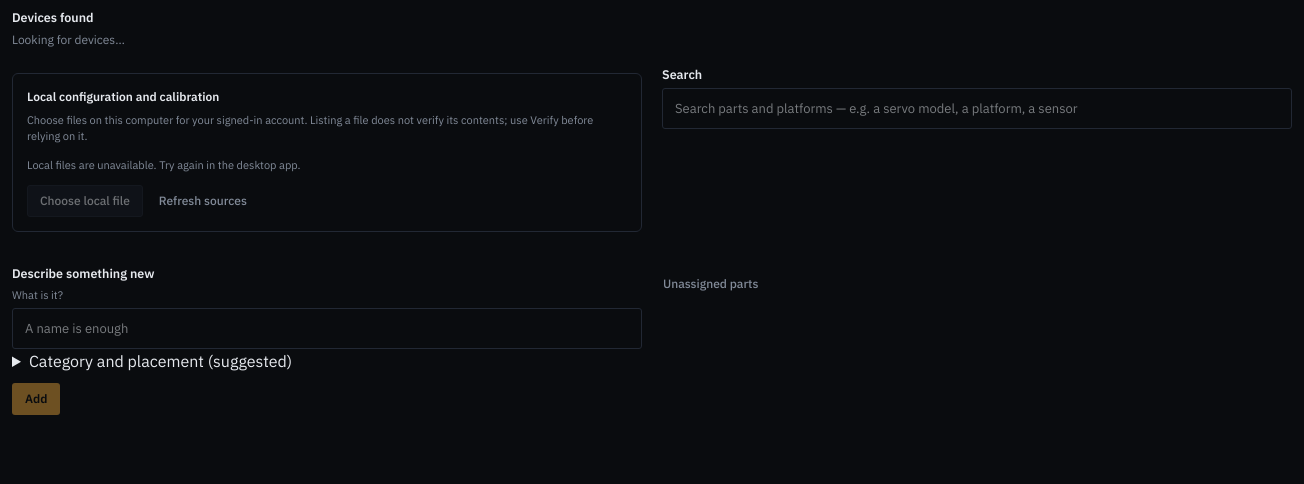
keeps creation failures visible without publishing success
Type "Wrist IMU" into the field labelled "What is it?" at (327, 328), box 12,308 -> 642,349
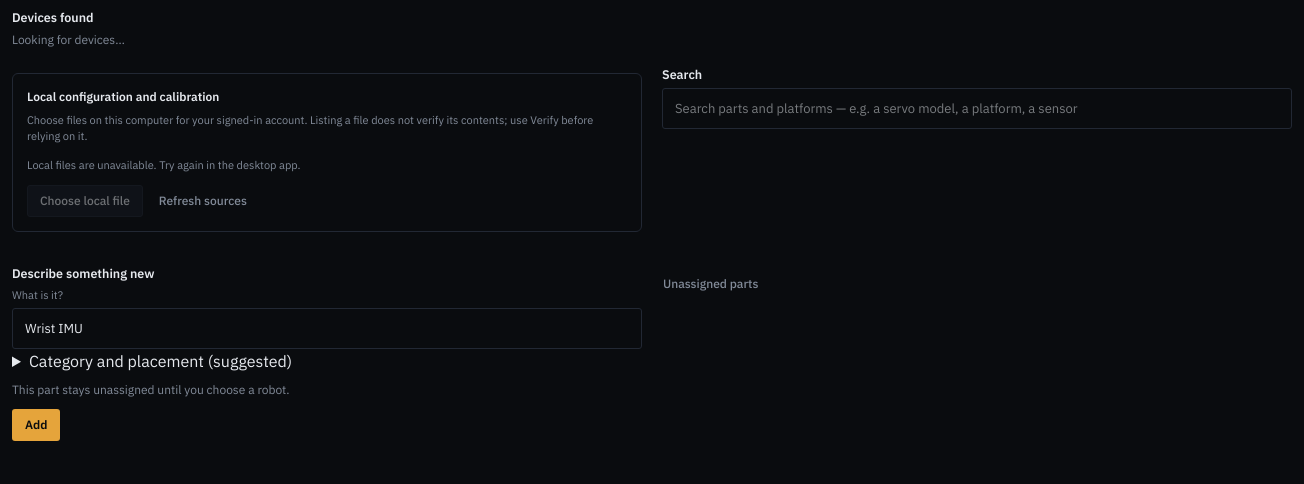
Click the button "Add" at (36, 425), box 12,409 -> 60,441
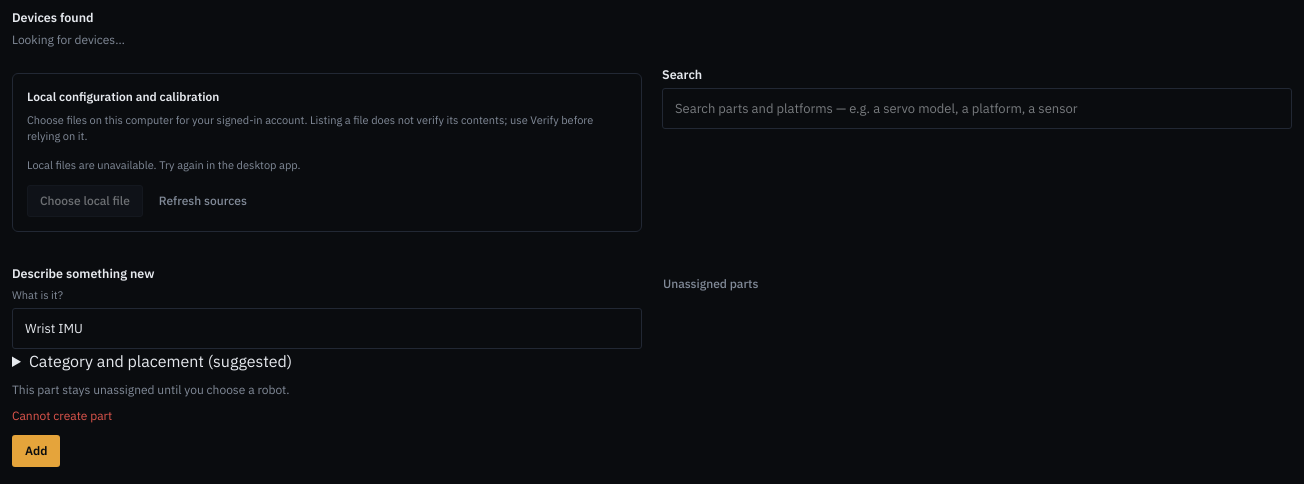
Expected: the message "Cannot create part" is shown, 12,408 -> 112,423
